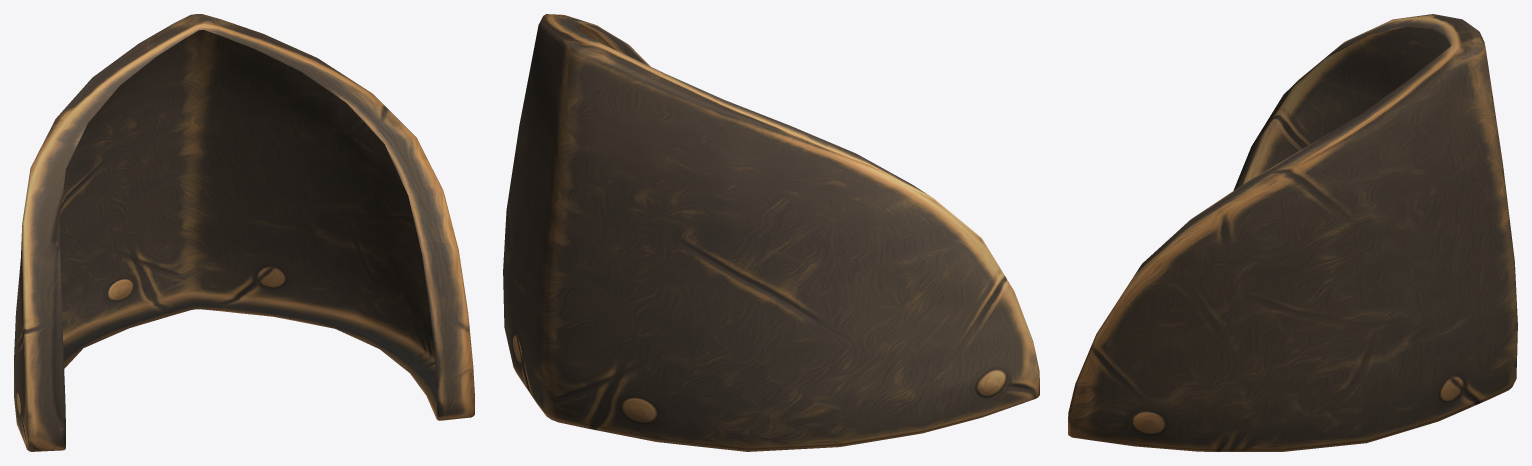
The model's file is sm_armor_dwarf_dhodin_boot_back.gltf.
The picture shows the model from 3 angles, left to right: view 1: azimuth 30°, elevation 25°; view 2: azimuth 150°, elevation 25°; view 3: azimuth 270°, elevation 25°; orthographic projection. The views are drawn at different scales.
Parts seen in each view (by area): view 1: sm_armor_dwarf_dhodin_boot_back; view 2: sm_armor_dwarf_dhodin_boot_back; view 3: sm_armor_dwarf_dhodin_boot_back.
Part boxes in pixels (x1,y1,x2,y2): sm_armor_dwarf_dhodin_boot_back: (14, 14, 474, 451); sm_armor_dwarf_dhodin_boot_back: (503, 14, 1039, 451); sm_armor_dwarf_dhodin_boot_back: (1068, 14, 1517, 451).
Size of the model in its own units: 0.2095 by 0.1482 by 0.1791.
Materials: 1 (1 with a texture image).
